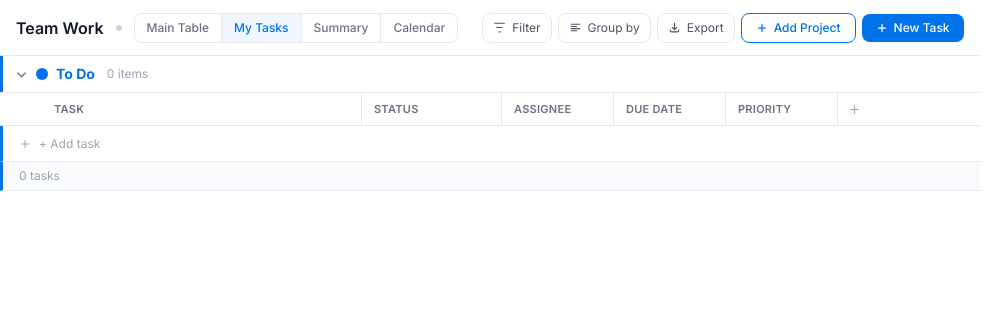
Scenario: My Tasks project visibility and completed groups › hides empty projects in both views, while Main Table shows colleague projects containing tasks
Check: the text "Colleague Project" is not shown
Check: the text "Colleague-only task" is not shown
Click the button "Main Table": (178, 28) [134,14,221,42]
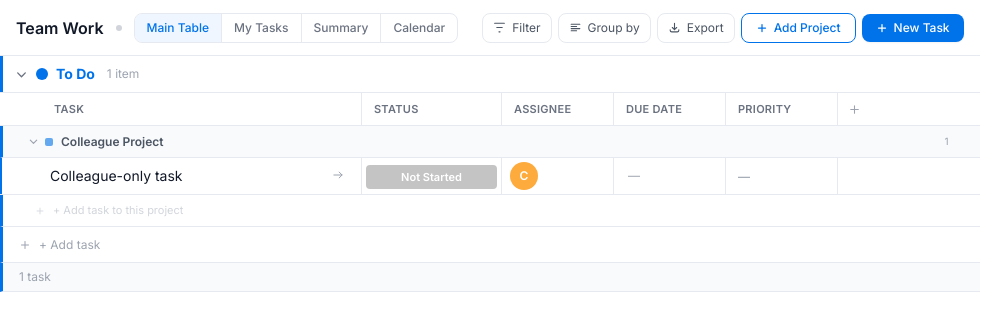
Check: the text "Colleague Project" is shown, box [61,134,164,148]
Check: the button "Colleague-only task" is shown, box [50,166,323,186]
